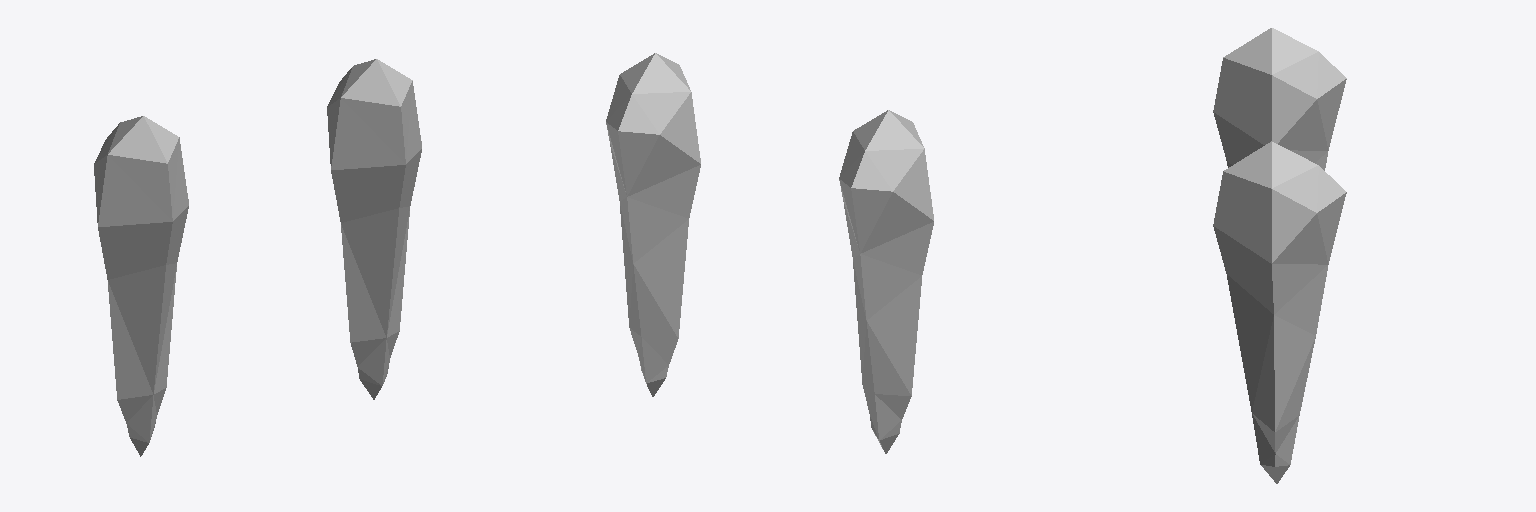
Rendered from legDL.obj.
The picture shows the model from 3 angles: view 1: azimuth 30°, elevation 25°; view 2: azimuth 150°, elevation 25°; view 3: azimuth 270°, elevation 25°; orthographic projection.
Parts seen in each view (by area): view 1: legL_matMain legL; view 2: legL_matMain legL; view 3: legL_matMain legL.
Part boxes in pixels (x1,y1,x2,y2): legL_matMain legL: (94, 59, 421, 456); legL_matMain legL: (606, 53, 933, 453); legL_matMain legL: (1213, 28, 1346, 483).
Bounding box in the file's own units: 0.9659 × 0.9765 × 0.3445.